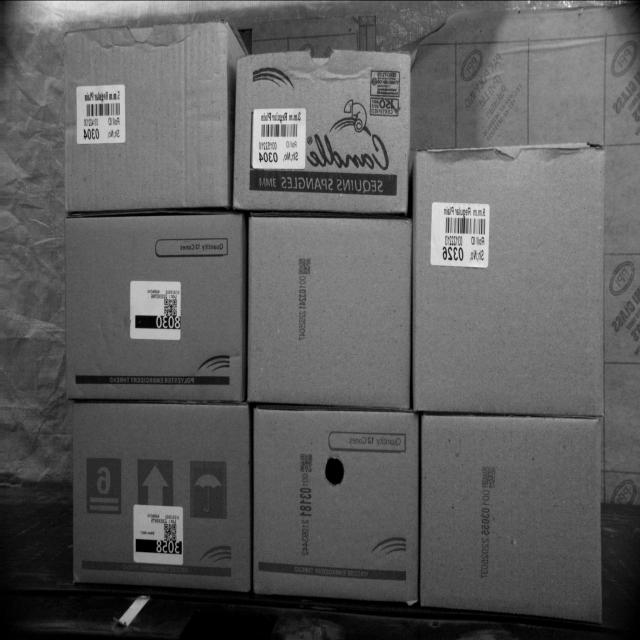cardboxes: (412, 143, 606, 412), (421, 415, 603, 618), (66, 208, 246, 396), (72, 403, 250, 584), (66, 22, 230, 214), (247, 216, 412, 404), (252, 413, 418, 595), (232, 50, 409, 216)
